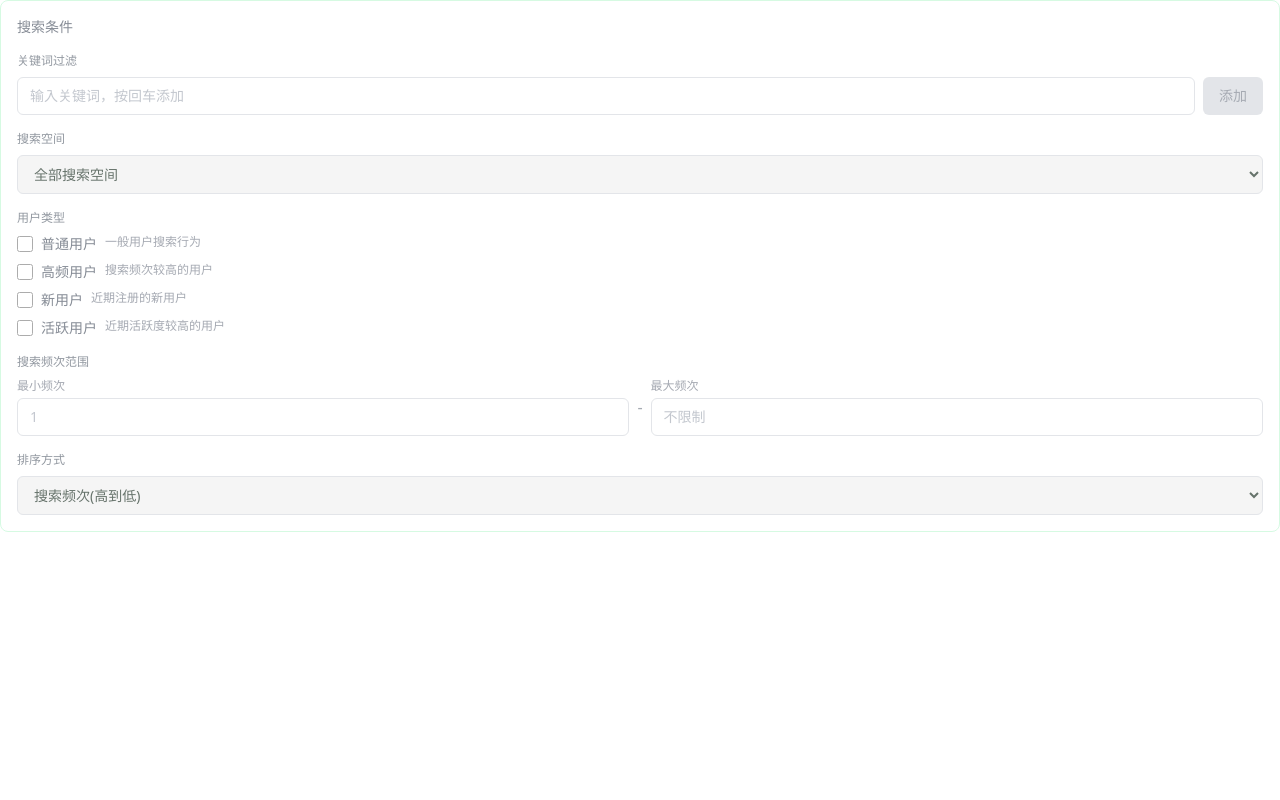
Test case: SearchConditionFilter › 关键词管理功能 › 应该能够添加关键词
The image size is (1280, 800).
Step 1. Type "测试关键词" into the field with id "keywords" → (606, 96), box [17,77,1195,115]
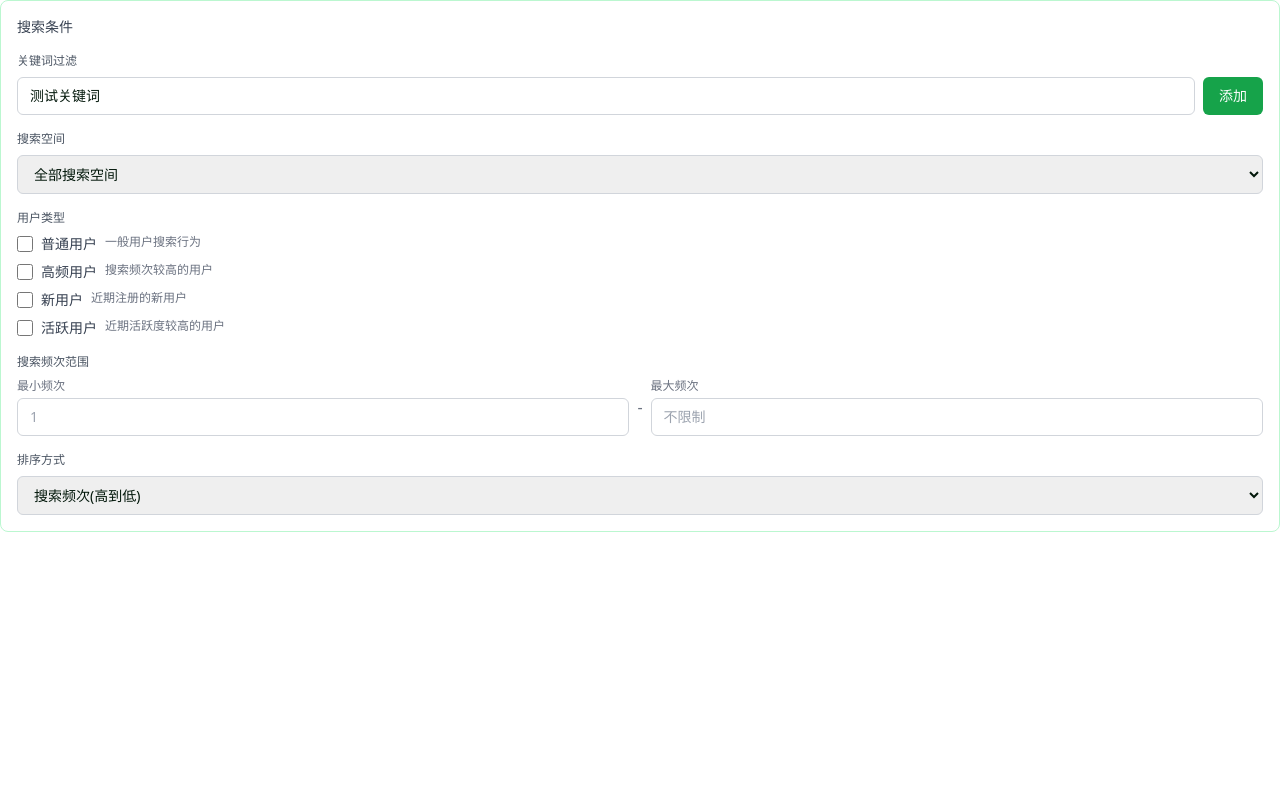
Step 2. Click the button with class "add-keyword-button" → (1233, 96), box [1203,77,1263,115]
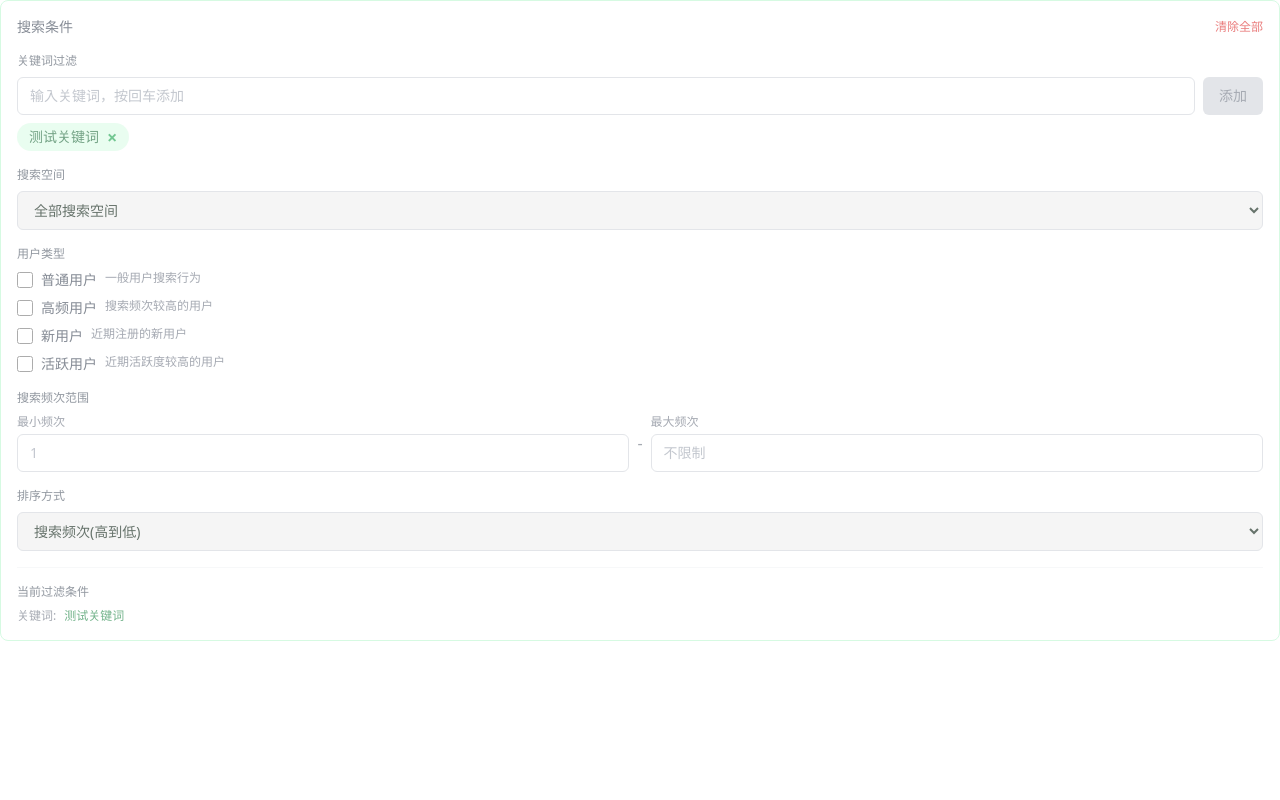
Check: the number of elements with class "keyword-tag" is 1, box [17,123,129,151]
Check: the text with class "keyword-text" reads "测试关键词", box [29,127,99,146]
Check: the field with id "keywords" is empty, box [17,77,1195,115]
